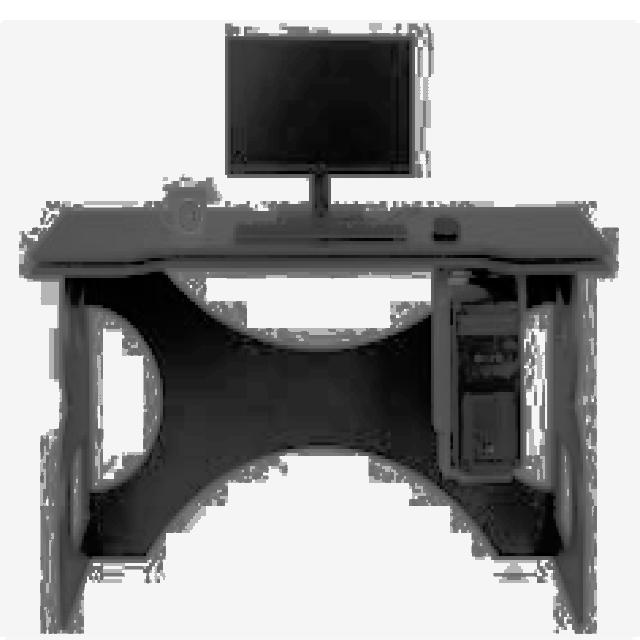table: (27, 201, 610, 627)
